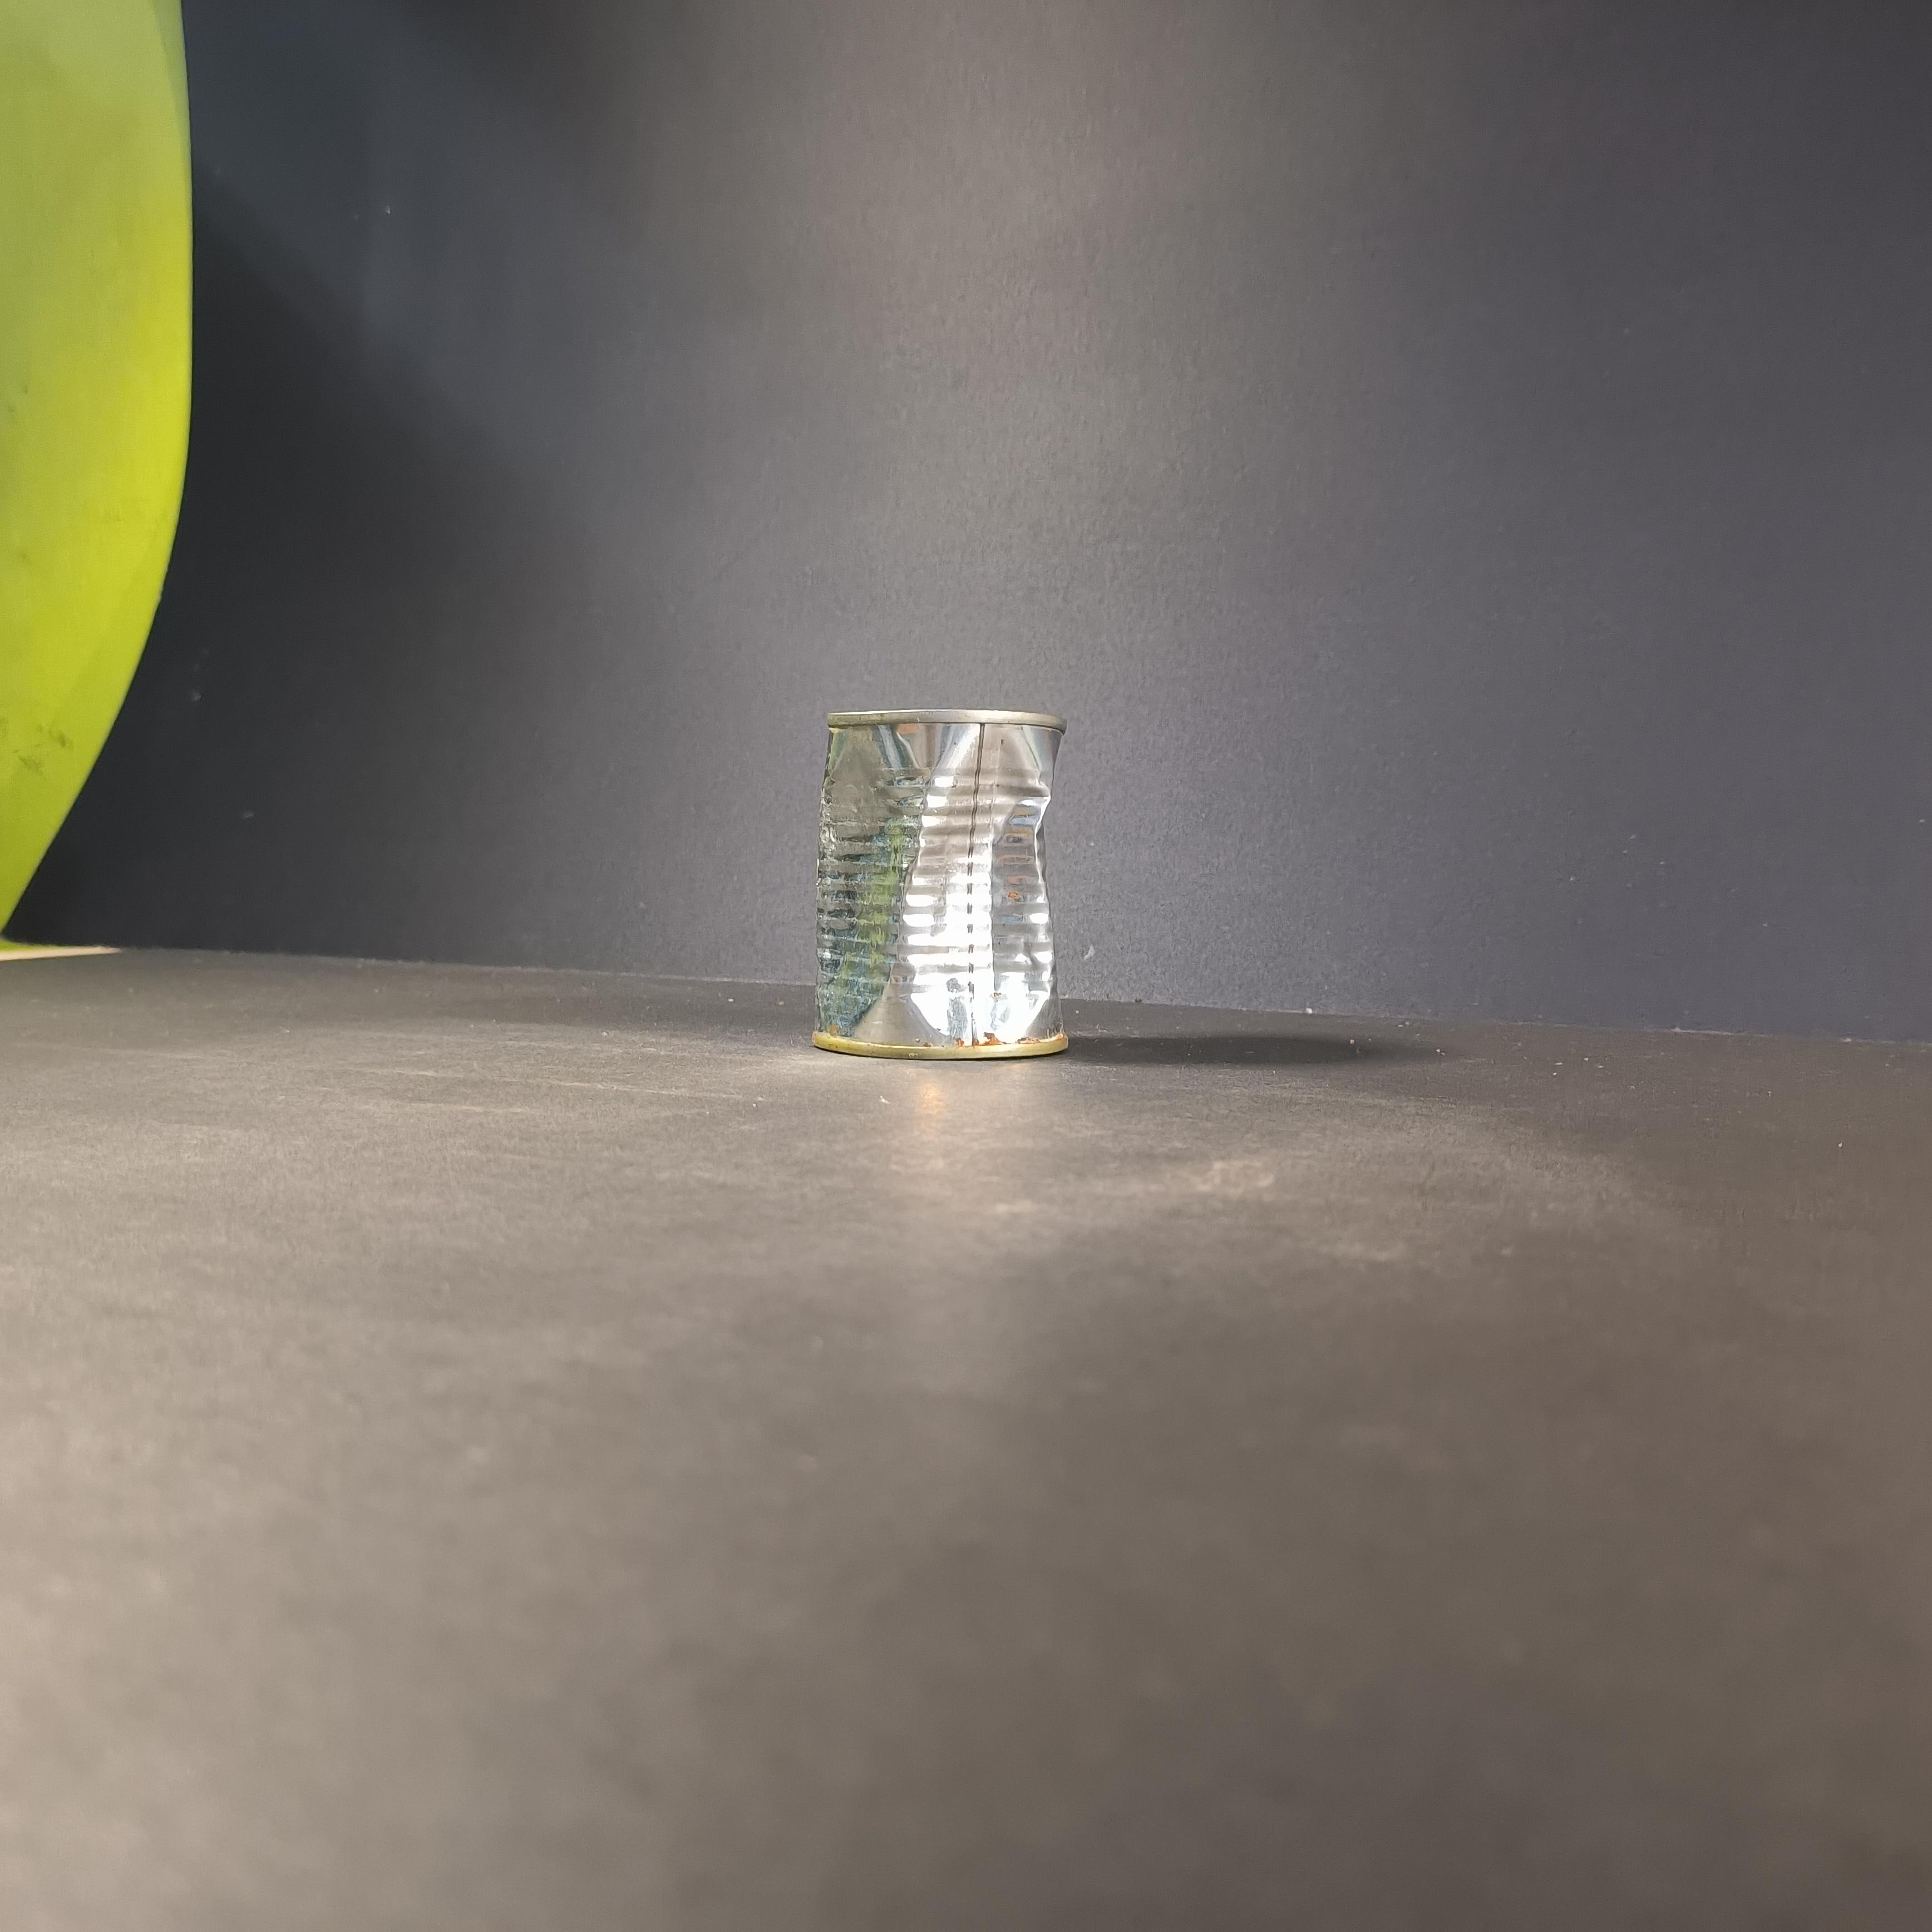Major Defect: (812, 708, 1069, 1058)
